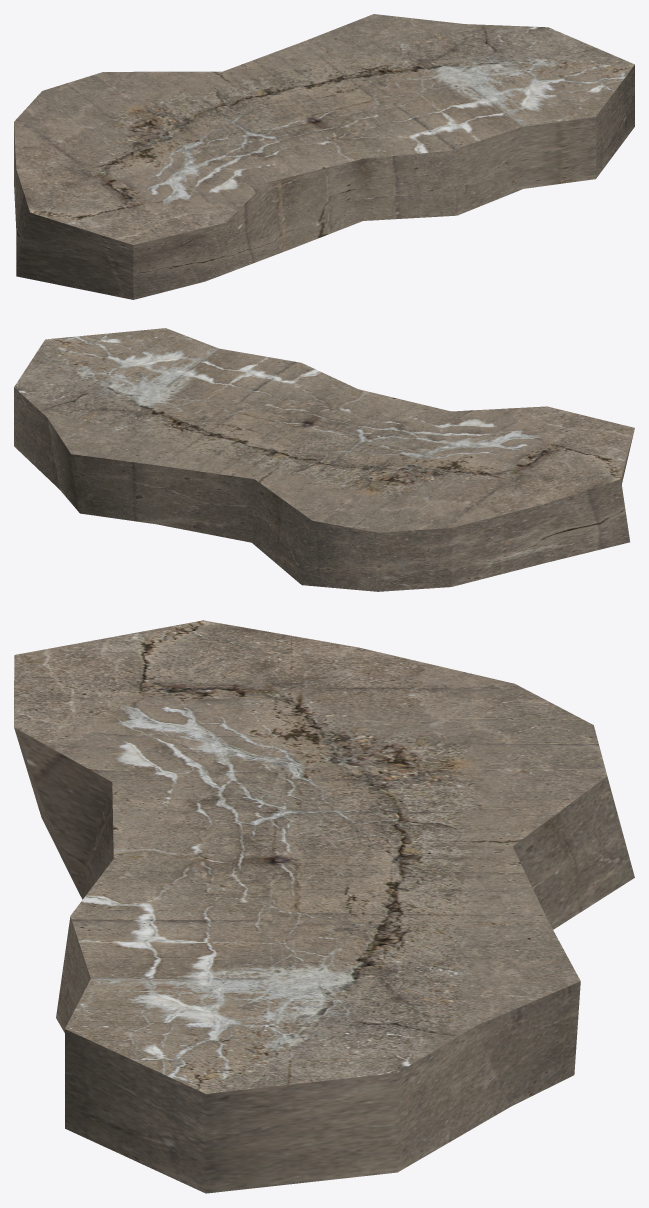
The model's file is 3D_Schrott_001.fbx.
3 views of the same model, one above another, from view 1: azimuth 30°, elevation 25°; view 2: azimuth 150°, elevation 25°; view 3: azimuth 270°, elevation 25° (orthographic). The views are drawn at different scales.
Parts seen in each view (by area): view 1: pasted__pCube1; view 2: pasted__pCube1; view 3: pasted__pCube1.
Boxes of the visible parts, x1,y1,x2,y2 form: pasted__pCube1: [14, 14, 634, 299]; pasted__pCube1: [14, 328, 634, 591]; pasted__pCube1: [14, 620, 634, 1193].
Bounding box in the file's own units: 4.81 × 0.4628 × 2.61.
